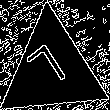L_SE: (27, 40, 77, 99)
